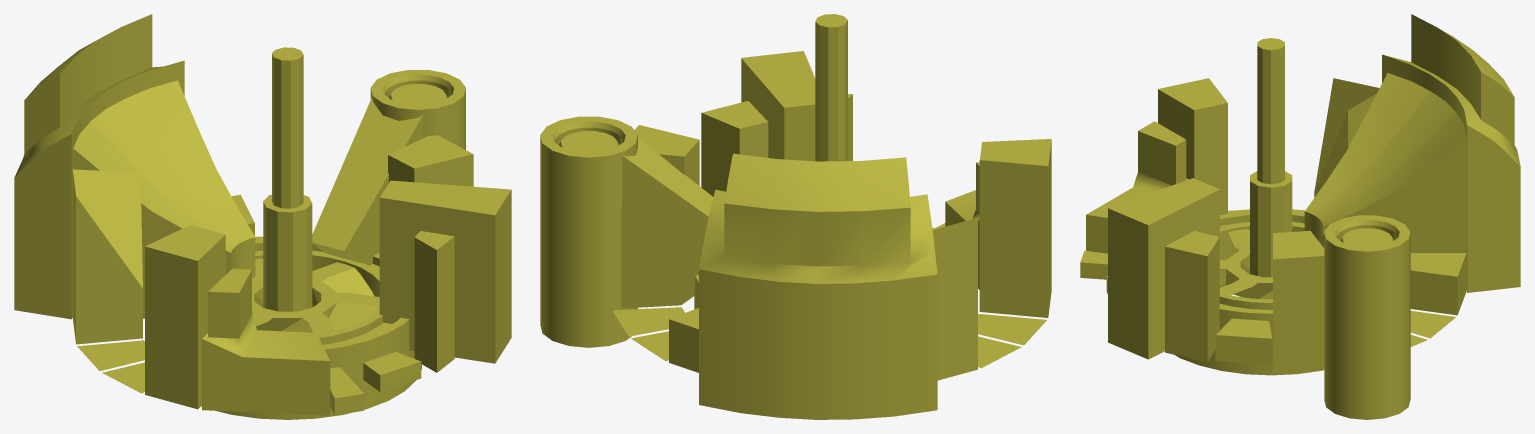
The model's file is energy.fbx.
3 renders of one model, left to right at view 1: azimuth 30°, elevation 25°; view 2: azimuth 150°, elevation 25°; view 3: azimuth 270°, elevation 25°, orthographic. The views are drawn at different scales.
Parts seen in each view (by area): view 1: Buildings:energy; view 2: Buildings:energy; view 3: Buildings:energy.
Part boxes in pixels (box(x1,y1,x2,y2)): Buildings:energy: box(14, 14, 511, 419); Buildings:energy: box(540, 14, 1051, 419); Buildings:energy: box(1080, 14, 1520, 419).
Bounding box in the file's own units: 5.76 × 4.11 × 5.87.
